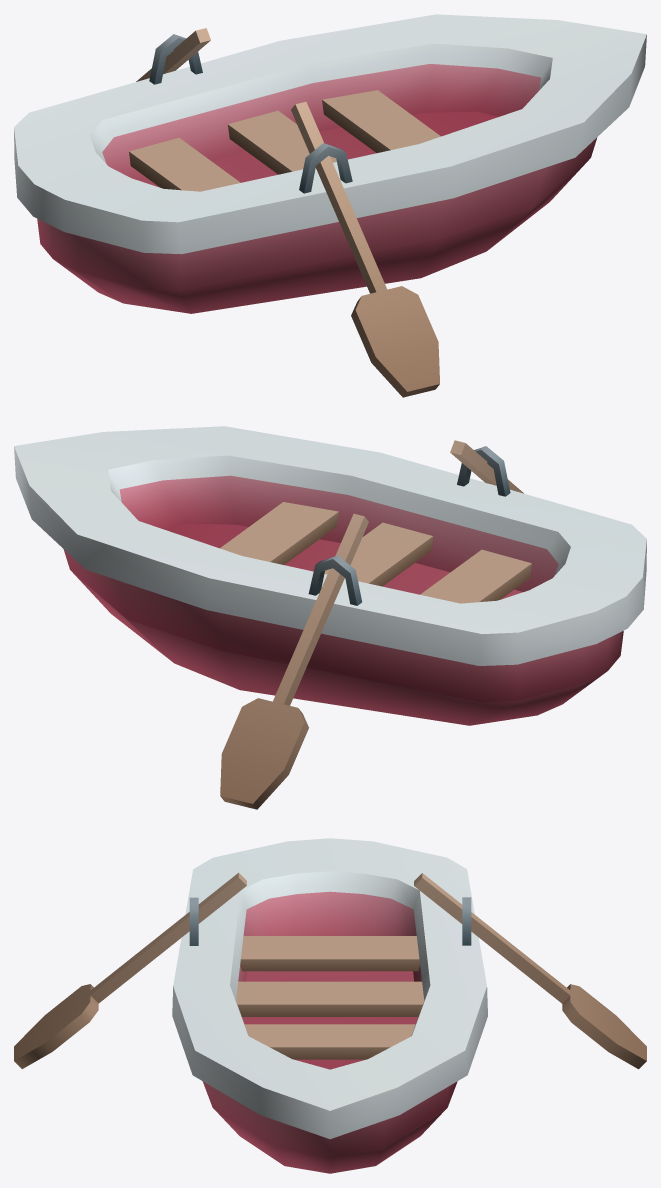
File: Asset_BoatA.glb
3 views of the same model, one above another, from view 1: azimuth 30°, elevation 25°; view 2: azimuth 150°, elevation 25°; view 3: azimuth 270°, elevation 25° (orthographic). The views are drawn at different scales.
Parts seen in each view (by area): view 1: Mesh.027; view 2: Mesh.027; view 3: Mesh.027.
Part boxes in pixels (box(x1,y1,x2,y2)): Mesh.027: box(14, 14, 646, 397); Mesh.027: box(14, 426, 646, 809); Mesh.027: box(14, 838, 646, 1173).
Size of what is drawn, in the model's own units: 3.66 by 1.27 by 3.57.
1 material, 1 textured.
